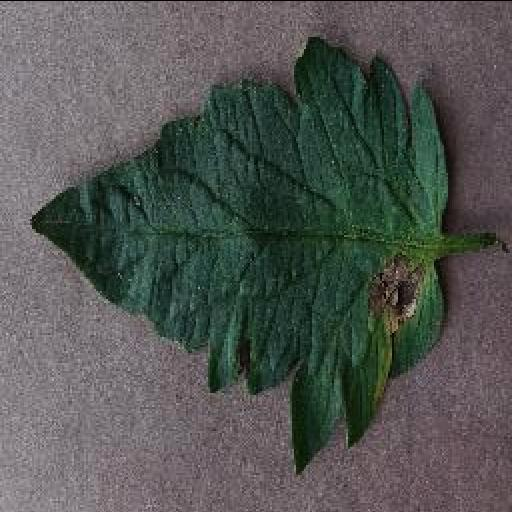disease_tomato: (27, 34, 449, 472)
